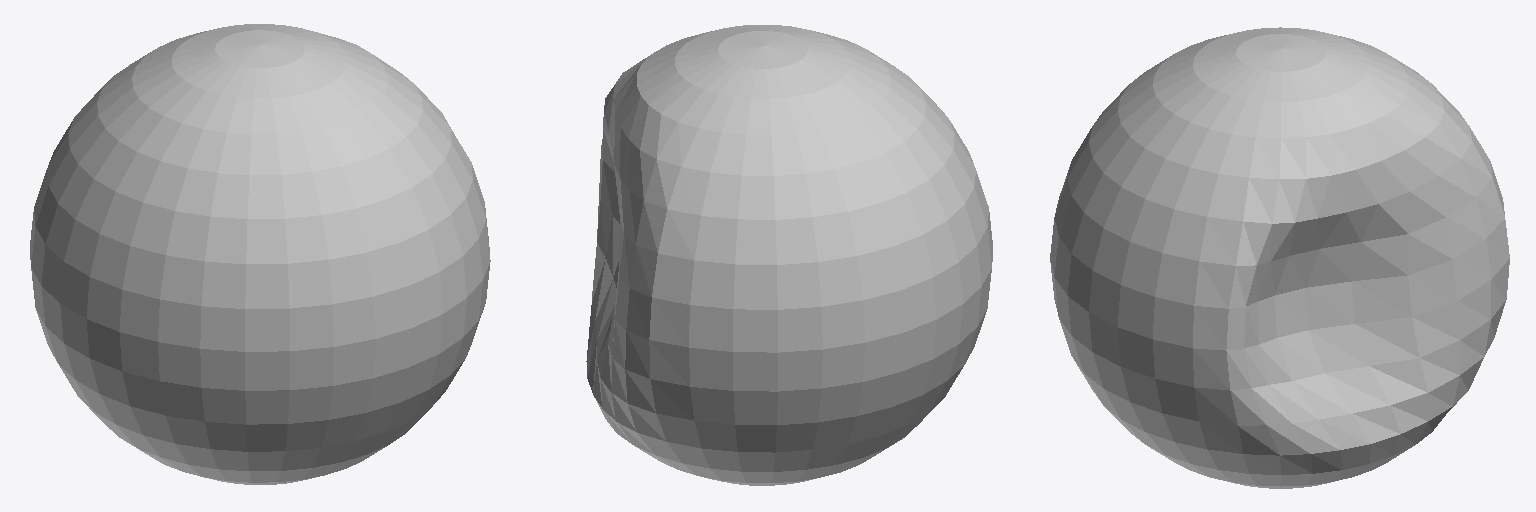
The model's file is Volleyball.obj.
The picture shows the model from 3 angles: view 1: azimuth 30°, elevation 25°; view 2: azimuth 150°, elevation 25°; view 3: azimuth 270°, elevation 25°; orthographic projection.
Parts seen in each view (by area): view 1: Volleyball_Sphere.009; view 2: Volleyball_Sphere.009; view 3: Volleyball_Sphere.009.
Part boxes in pixels (x1,y1,x2,y2): Volleyball_Sphere.009: (30, 24, 490, 484); Volleyball_Sphere.009: (586, 25, 992, 485); Volleyball_Sphere.009: (1050, 27, 1509, 488).
Bounding box in the file's own units: 0.9772 × 1 × 0.9959.